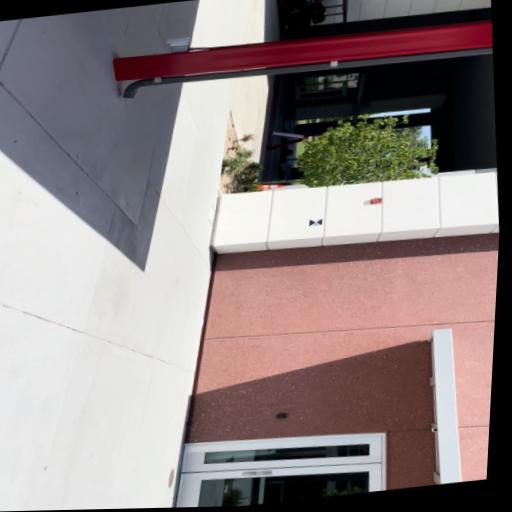target6: (309, 218, 323, 226)
